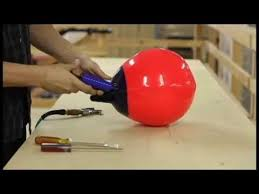buoy: (122, 47, 198, 129)
